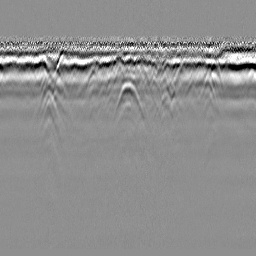cavity: (111, 79, 146, 121)
